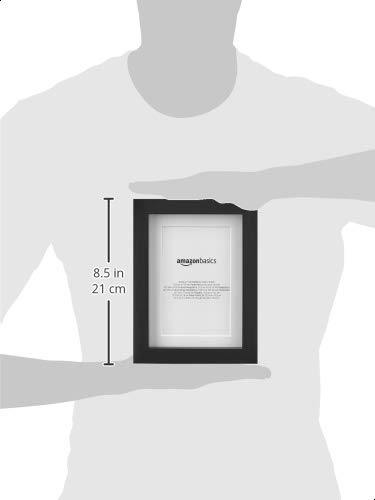21cm: (92, 284, 125, 293)
